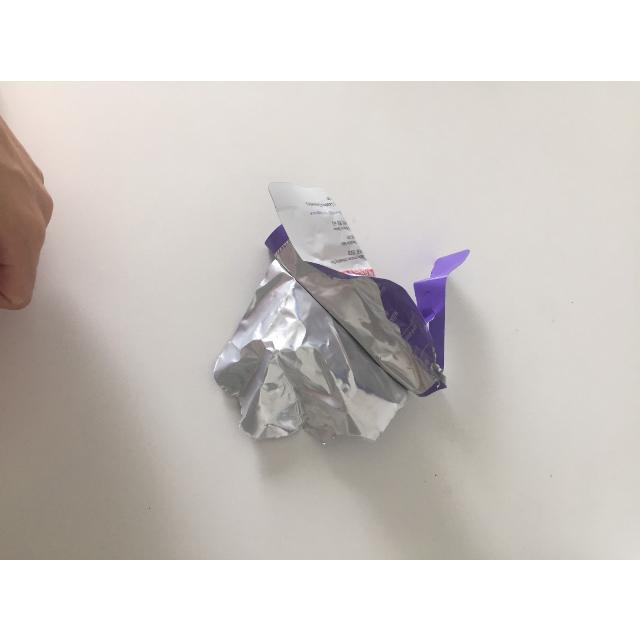Paquete de plastico: (214, 182, 469, 442)
